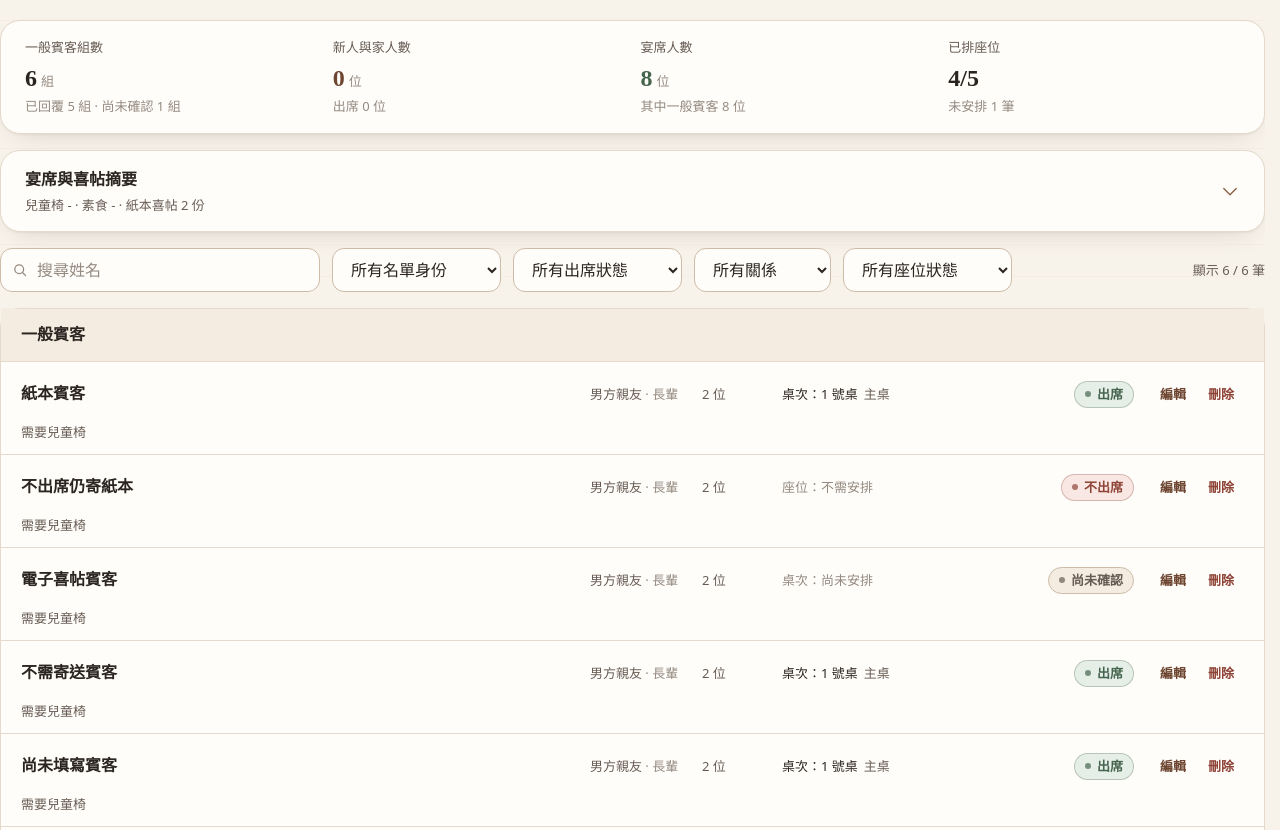
it: GuestList › summarises paper and digital invitations with their recipient lists
Click the button "宴席與喜帖摘要 兒童椅 - · 素食 - · 紙本喜帖 2 份": [81, 179] box top-left (1, 151), bottom-right (1264, 231)
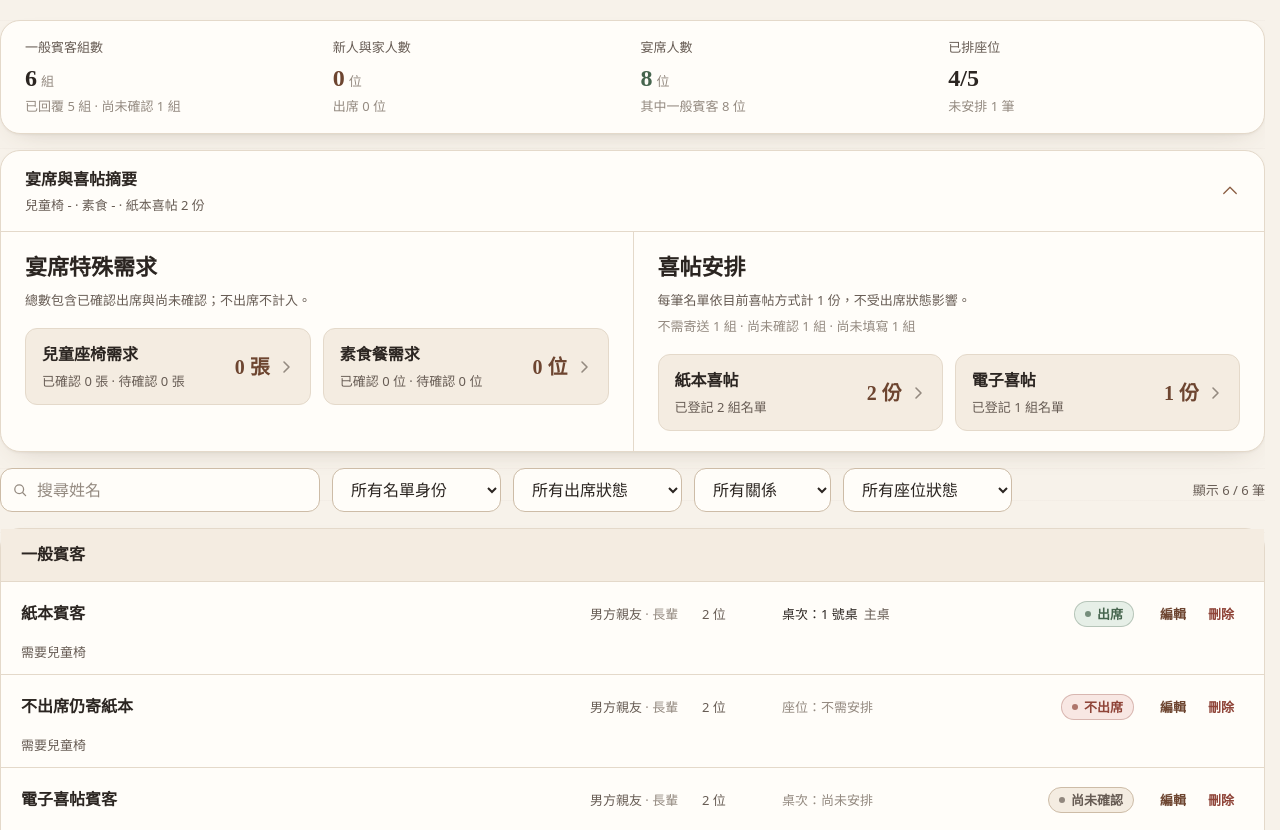
Check: the text "每筆名單依目前喜帖方式計 1 份，不受出席狀態影響。" is shown, box top-left (658, 291), bottom-right (971, 309)
Check: the text "不需寄送 1 組 · 尚未確認 1 組 · 尚未填寫 1 組" is shown, box top-left (658, 317), bottom-right (916, 335)
Check: the text "紙本喜帖" is shown, box top-left (674, 372), bottom-right (738, 389)
Click the button with aria-label "查看 2 份紙本喜帖完整資訊": [707, 381] box top-left (658, 354), bottom-right (943, 431)
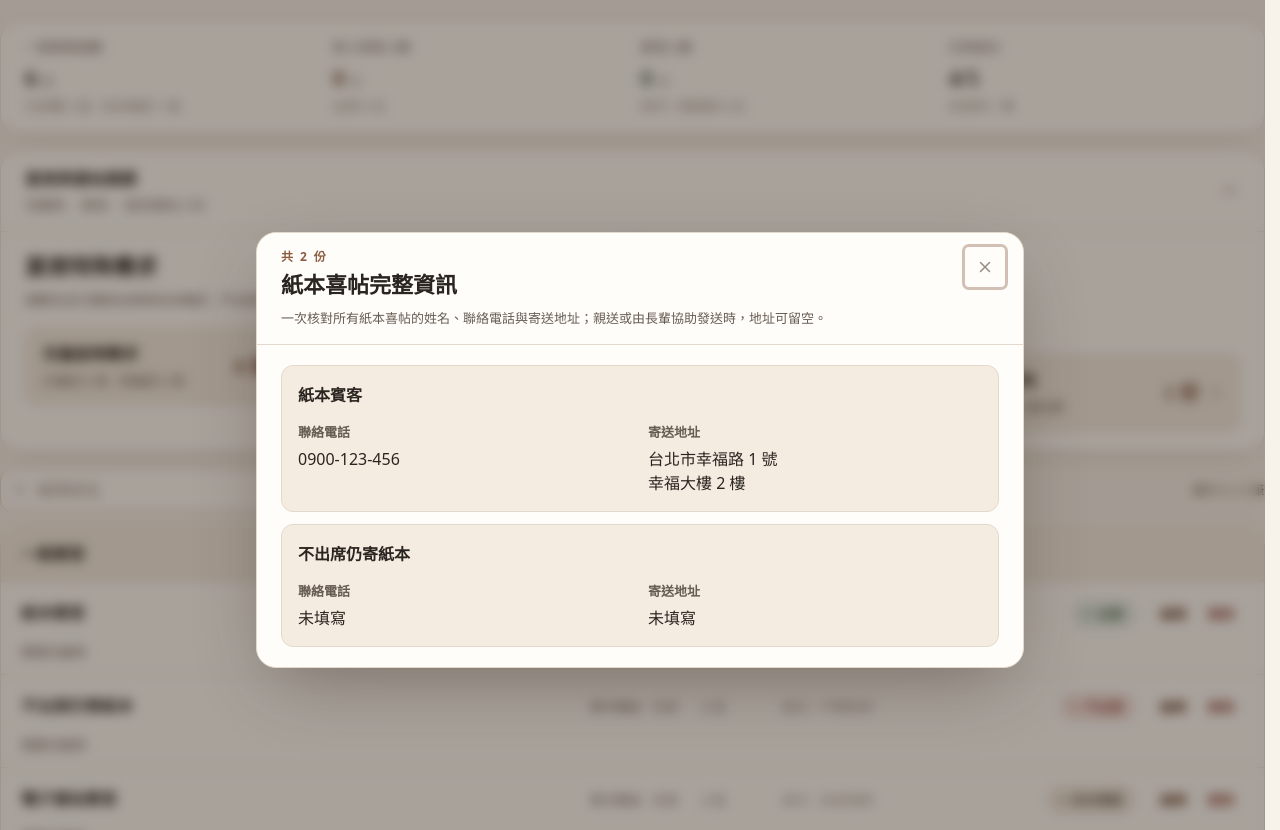
Check: the text "0900-123-456" is shown, box top-left (298, 448), bottom-right (400, 470)
Check: the heading "紙本賓客" is shown, box top-left (298, 387), bottom-right (362, 404)
Check: the heading "不出席仍寄紙本" is shown, box top-left (298, 546), bottom-right (410, 563)
